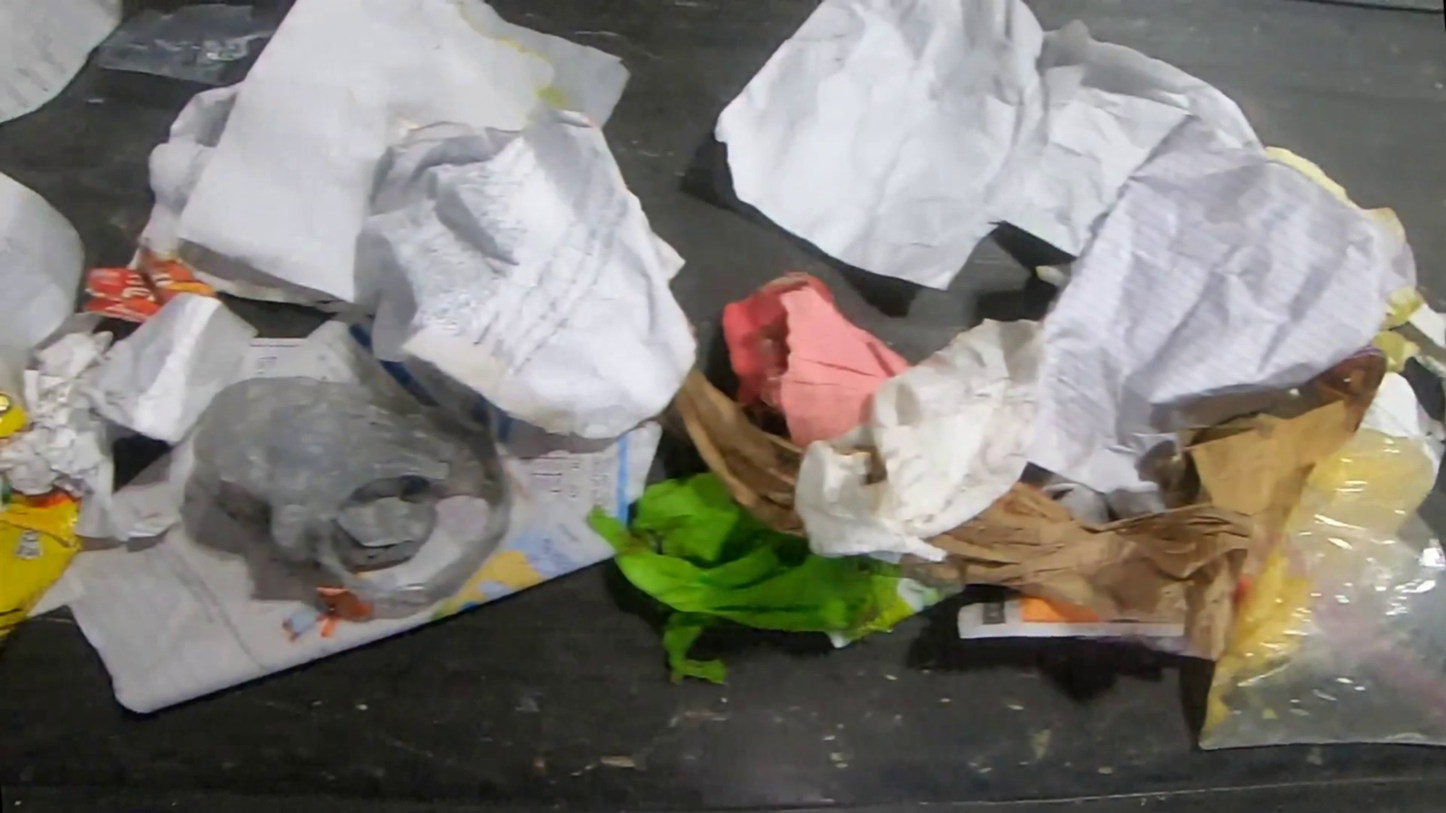cardboard: (1173, 354, 1386, 517), (0, 484, 86, 648), (73, 247, 225, 326), (0, 389, 32, 443)
plastic: (179, 373, 515, 622), (1194, 422, 1446, 752), (89, 0, 296, 88), (1263, 379, 1319, 417)
